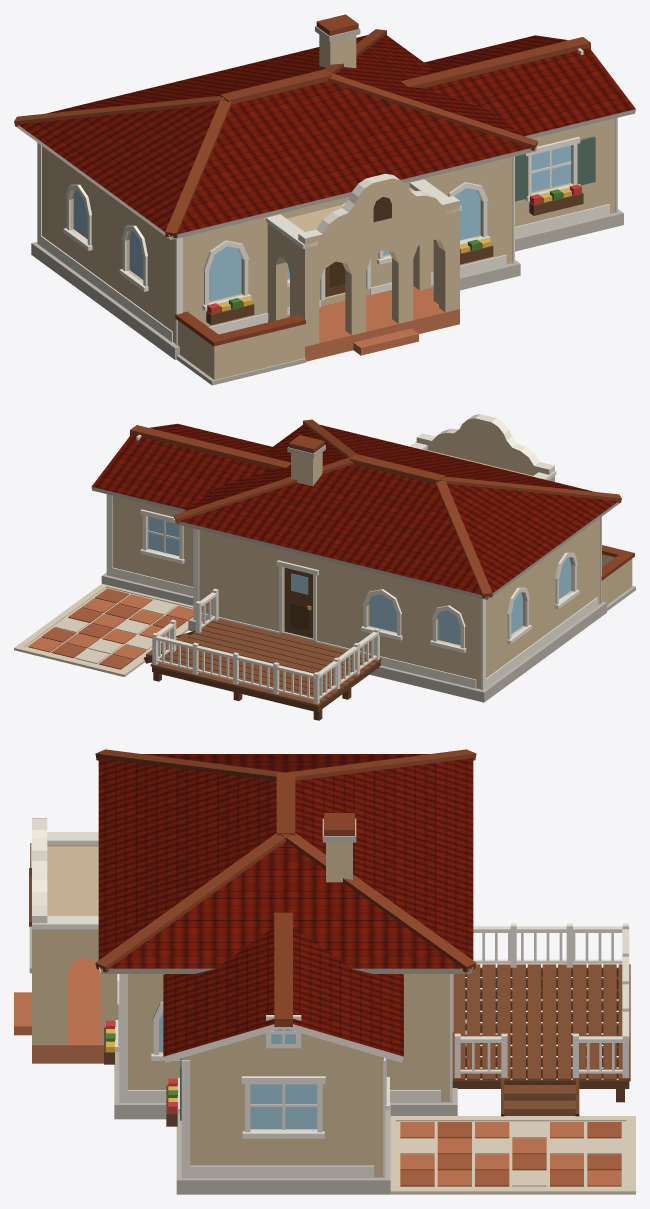
Rendered from base-09-level4.glb.
3 renders of one model, top to bottom at view 1: azimuth 30°, elevation 25°; view 2: azimuth 150°, elevation 25°; view 3: azimuth 270°, elevation 25°, orthographic. The views are drawn at different scales.
Parts seen in each view (by area): view 1: base_house_9_finished, piece_addition; view 2: base_house_9_finished, piece_addition, piece_deck, piece_patio; view 3: base_house_9_finished, piece_addition, piece_deck, piece_patio.
Part boxes in pixels (x1,y1,x2,y2): base_house_9_finished: [14, 14, 537, 385]; piece_addition: [401, 35, 635, 251]; base_house_9_finished: [173, 414, 635, 702]; piece_addition: [91, 423, 290, 605]; piece_deck: [143, 588, 381, 720]; piece_patio: [14, 584, 193, 676]; base_house_9_finished: [14, 749, 476, 1119]; piece_addition: [163, 912, 403, 1194]; piece_deck: [452, 923, 630, 1116]; piece_patio: [390, 1116, 635, 1194].
Size of the model in its own units: 15.36 by 6.12 by 13.95.
19 materials, 1 textured.
